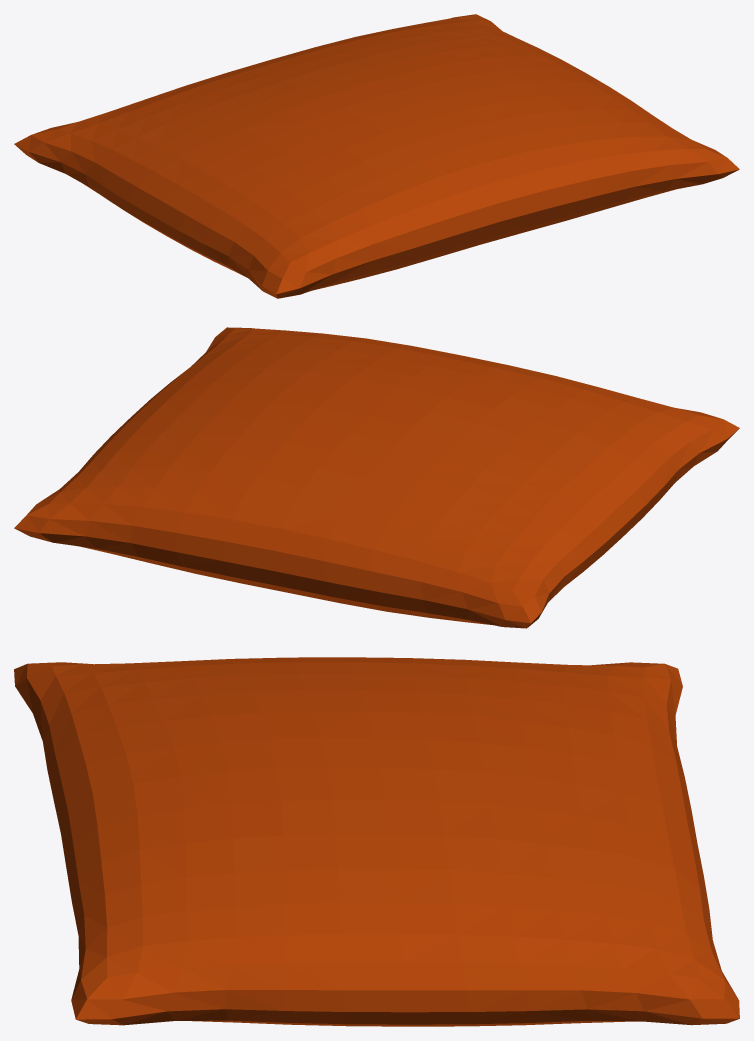
The model's file is bantaiLantai1.obj.
3 views of the same model, one above another, from view 1: azimuth 30°, elevation 25°; view 2: azimuth 150°, elevation 25°; view 3: azimuth 270°, elevation 25° (orthographic). The views are drawn at different scales.
Visible parts, largest first — view 1: Cushion.001_Cube.032; view 2: Cushion.001_Cube.032; view 3: Cushion.001_Cube.032.
Boxes of the visible parts, <box> form: Cushion.001_Cube.032: <box>14,14,739,298</box>; Cushion.001_Cube.032: <box>14,327,739,628</box>; Cushion.001_Cube.032: <box>14,657,739,1026</box>.
Size of the model in its own units: 0.9841 by 0.1949 by 0.846.
